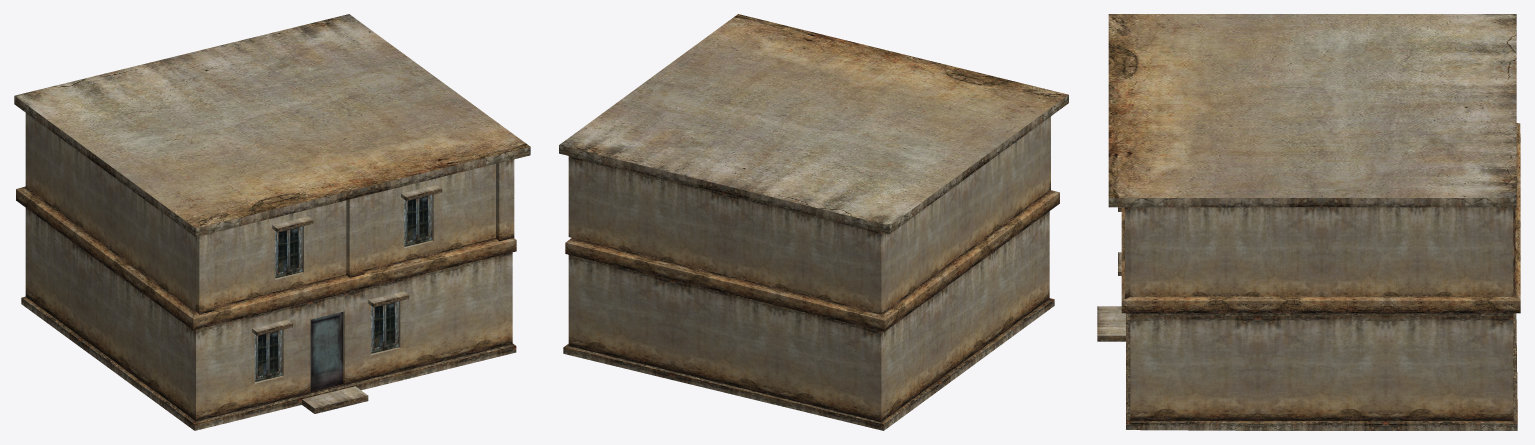
The model's file is BuildingB.fbx.
3 renders of one model, left to right at view 1: azimuth 30°, elevation 25°; view 2: azimuth 150°, elevation 25°; view 3: azimuth 270°, elevation 25°, orthographic. The views are drawn at different scales.
Visible parts, largest first — view 1: BuildingB; view 2: BuildingB; view 3: BuildingB.
Part boxes in pixels (left/top/right/bottom): BuildingB: left=14, top=14, right=530, bottom=430; BuildingB: left=559, top=14, right=1068, bottom=430; BuildingB: left=1097, top=14, right=1520, bottom=430.
Bounding box in the file's own units: 1161 × 694 × 1129.
